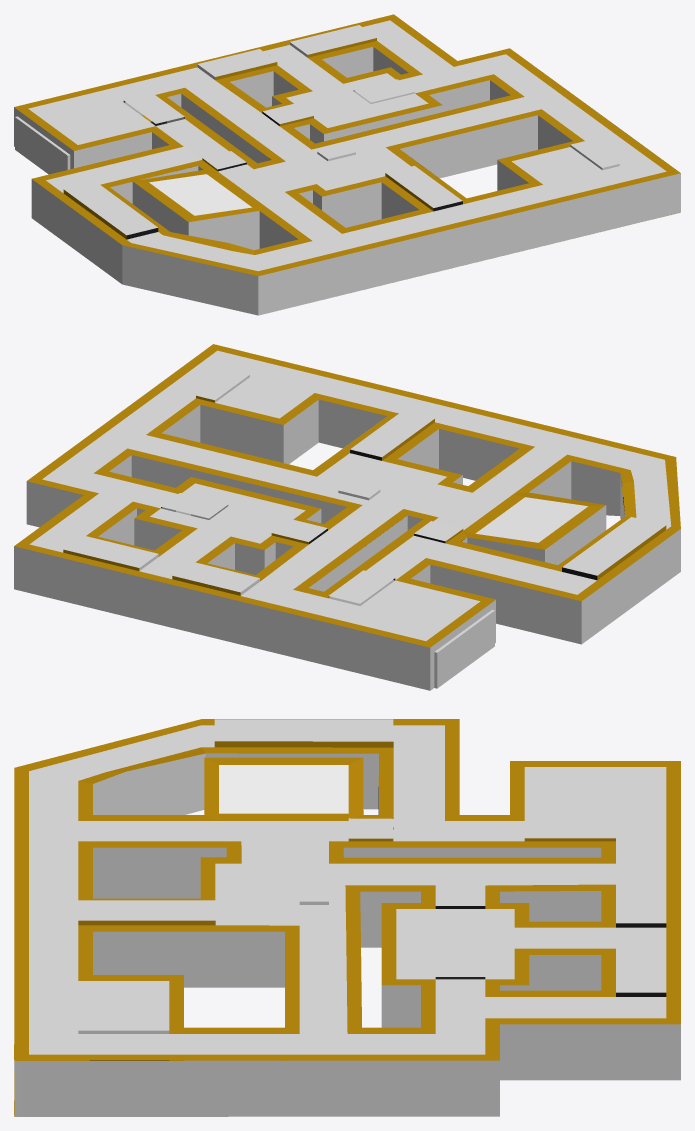
The model's file is map.glb.
3 views of the same model, one above another, from view 1: azimuth 30°, elevation 25°; view 2: azimuth 150°, elevation 25°; view 3: azimuth 270°, elevation 25° (orthographic). The views are drawn at different scales.
Parts seen in each view (by area): view 1: teto, paredes; view 2: teto, paredes; view 3: teto, paredes.
Boxes of the visible parts, x1,y1,x2,y2 form: teto: (14, 14, 680, 276); paredes: (14, 47, 680, 315); teto: (14, 344, 680, 647); paredes: (14, 356, 680, 690); teto: (14, 719, 680, 1060); paredes: (14, 753, 680, 1116).
Size of the model in its own units: 41.03 by 4.26 by 33.83.
